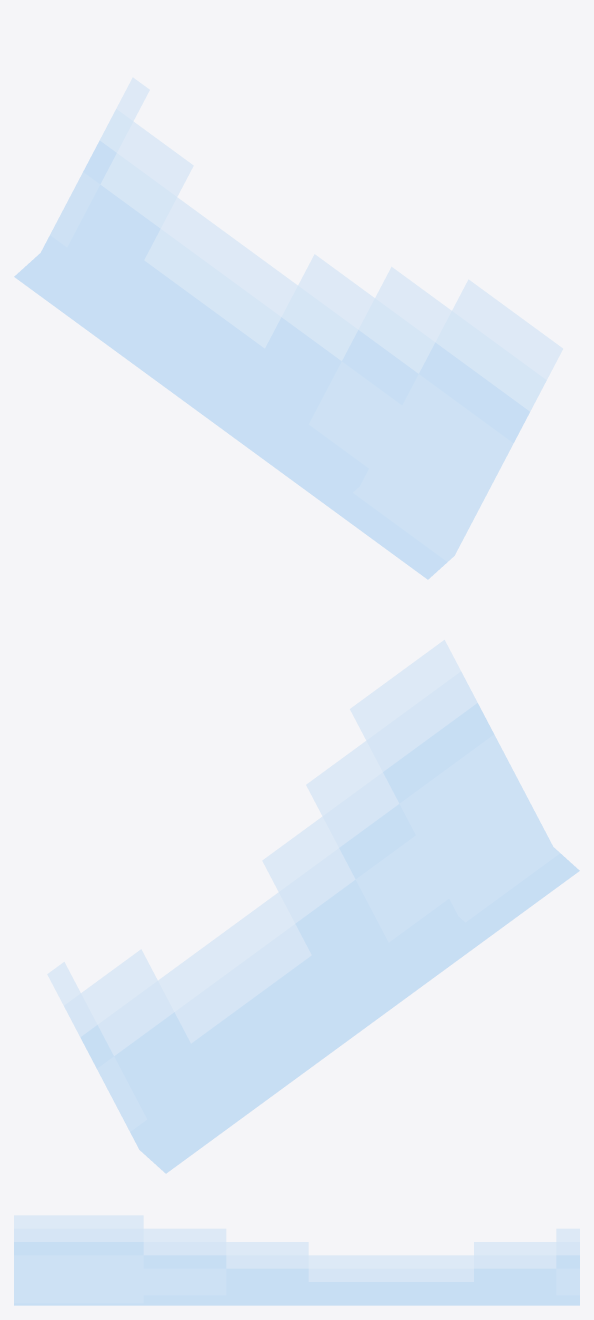
3 views of the same model, one above another, from view 1: azimuth 30°, elevation 25°; view 2: azimuth 150°, elevation 25°; view 3: azimuth 270°, elevation 25° (orthographic). The views are drawn at different scales.
Size of the model in its own units: 0.2119 by 0.3007 by 1.
Materials: 1 (1 with a texture image).
